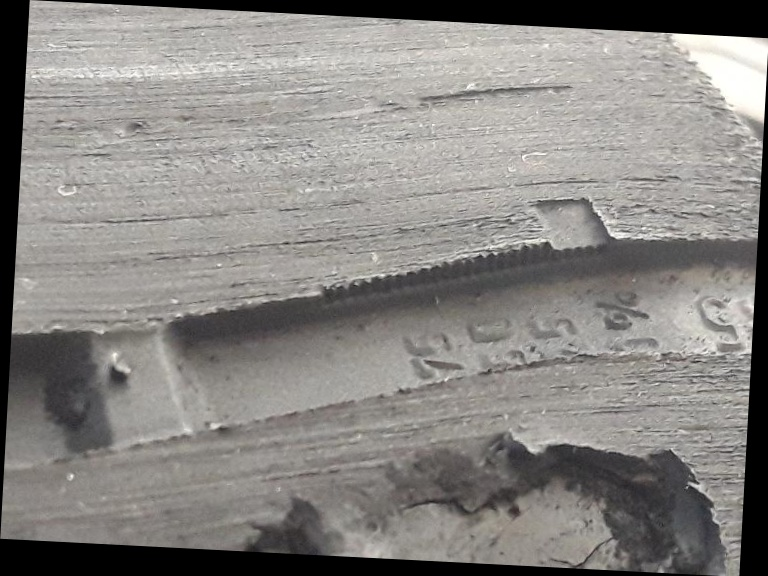temoin:0: (510, 177, 629, 297)
